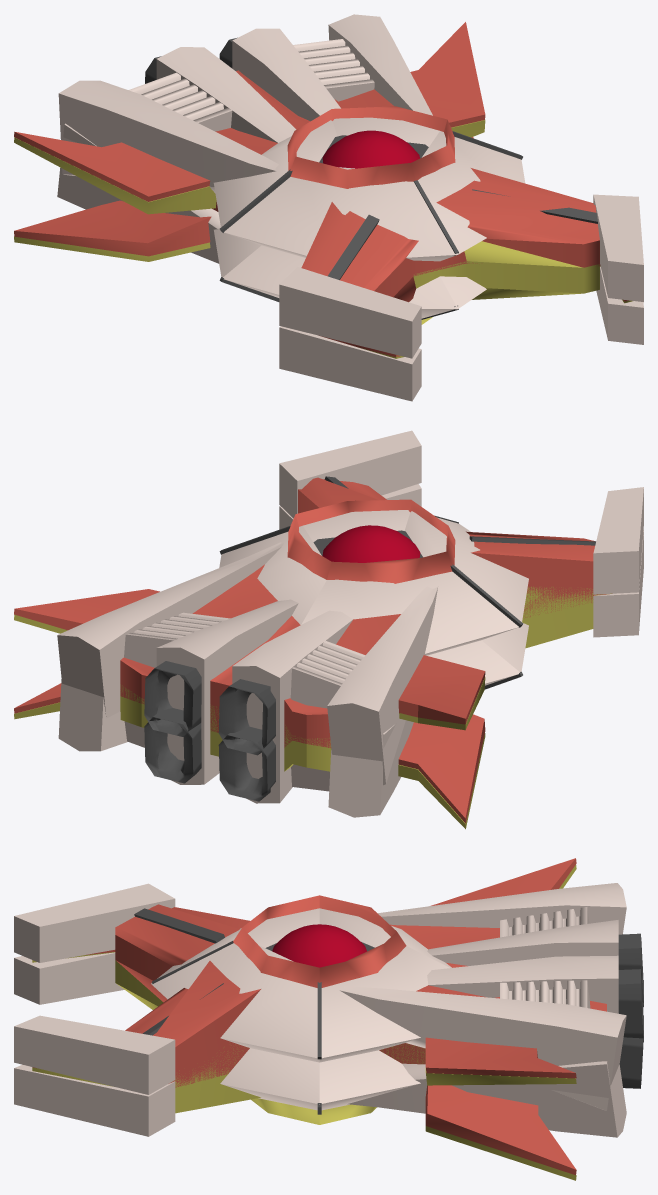
The model's file is enemy04.fbx.
3 views of the same model, one above another, from view 1: azimuth 30°, elevation 25°; view 2: azimuth 150°, elevation 25°; view 3: azimuth 270°, elevation 25° (orthographic). The views are drawn at different scales.
Visible parts, largest first — view 1: pPlatonic1, pCube4, pasted__pasted__pCube79, pasted__pasted__pCube87, pCube12, pasted__pasted__pCube62, pCube18, pCube20, pPlatonic2, pPlatonic4, pasted__pasted__pCube57, pasted__pasted__pCube77 (+12 smaller); view 2: pPlatonic1, pCube4, pasted__pasted__pCube79, pasted__pasted__pCube78, pasted__pasted__pCube87, pCube11, pasted__pasted__pCube57, pCube18, pPlatonic2, pasted__pasted__pCube62, pasted__pasted__pCube77, pCube12 (+18 smaller); view 3: pPlatonic1, pCube4, pasted__pasted__pCube78, pCube11, pPlatonic4, pasted__pasted__pCube85, pCube12, pasted__pasted__pCube62, pCube21, pasted__pasted__pCube79, pasted__pasted__pCube87, pasted__pasted__pCube57 (+14 smaller).
Part boxes in pixels (<box>): pPlatonic1: <box>213,117,525,261</box>; pCube4: <box>212,70,628,357</box>; pasted__pasted__pCube79: <box>58,80,278,192</box>; pasted__pasted__pCube87: <box>14,22,485,201</box>; pCube12: <box>279,267,421,358</box>; pasted__pasted__pCube62: <box>14,137,473,256</box>; pCube18: <box>358,241,632,358</box>; pCube20: <box>279,326,421,401</box>; pPlatonic2: <box>287,106,455,188</box>; pPlatonic4: <box>214,228,486,318</box>; pasted__pasted__pCube57: <box>232,28,340,121</box>; pasted__pasted__pCube77: <box>156,47,296,142</box>; pPlatonic1: <box>219,510,528,655</box>; pCube4: <box>120,477,609,747</box>; pasted__pasted__pCube79: <box>327,586,437,785</box>; pasted__pasted__pCube78: <box>57,542,283,718</box>; pasted__pasted__pCube87: <box>14,589,485,724</box>; pCube11: <box>279,430,421,518</box>; pasted__pasted__pCube57: <box>156,599,298,743</box>; pCube18: <box>120,586,611,771</box>; pPlatonic2: <box>287,499,455,583</box>; pasted__pasted__pCube62: <box>14,683,485,823</box>; pasted__pasted__pCube77: <box>232,610,352,761</box>; pCube12: <box>593,487,643,594</box>; pPlatonic1: <box>151,908,451,1062</box>; pCube4: <box>32,904,606,1087</box>; pasted__pasted__pCube78: <box>340,986,626,1110</box>; pCube11: <box>14,1015,175,1094</box>; pPlatonic4: <box>220,1048,420,1110</box>; pasted__pasted__pCube85: <box>347,1061,626,1137</box>; pCube12: <box>14,883,175,962</box>; pasted__pasted__pCube62: <box>425,1085,576,1175</box>; pCube21: <box>14,1064,175,1136</box>; pasted__pasted__pCube79: <box>378,883,626,934</box>; pasted__pasted__pCube87: <box>425,858,576,1078</box>; pasted__pasted__pCube57: <box>427,955,618,1013</box>.
Bounding box in the file's own units: 159 × 57.22 × 197.
